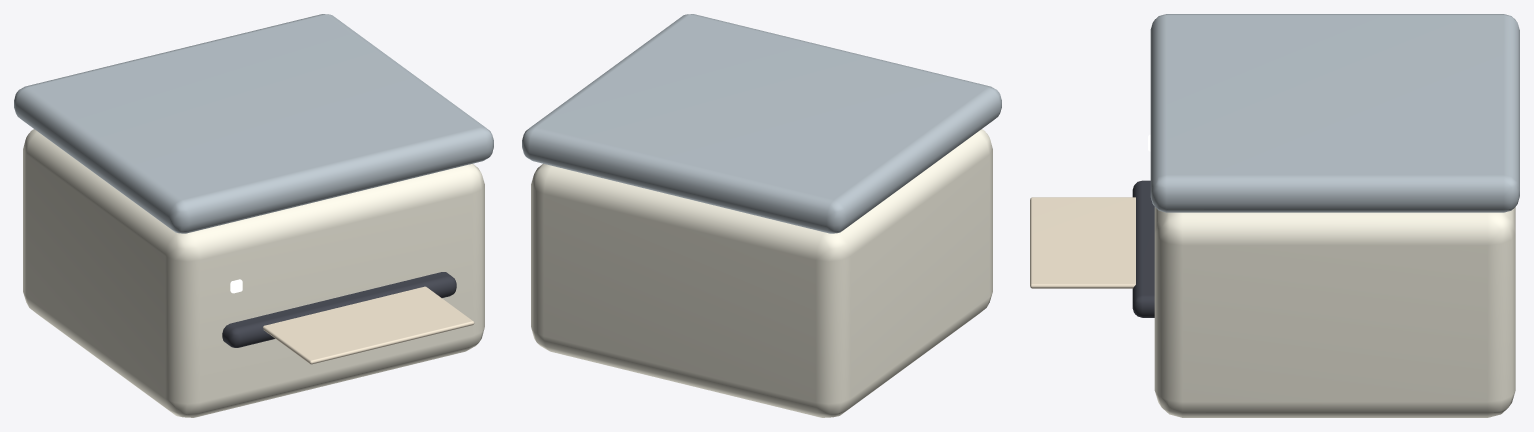
The model's file is officePrinterAni.glb.
The picture shows the model from 3 angles, left to right: view 1: azimuth 30°, elevation 25°; view 2: azimuth 150°, elevation 25°; view 3: azimuth 270°, elevation 25°; orthographic projection. The views are drawn at different scales.
Parts seen in each view (by area): view 1: Office machine, Lid, Printed page, Paper output; view 2: Office machine, Lid; view 3: Office machine, Lid, Printed page, Paper output.
Part boxes in pixels (x1,y1,x2,y2): Office machine: [23, 129, 484, 417]; Lid: [14, 14, 493, 233]; Printed page: [263, 286, 474, 364]; Paper output: [222, 272, 456, 347]; Office machine: [531, 129, 992, 417]; Lid: [522, 14, 1001, 233]; Office machine: [1154, 207, 1515, 417]; Lid: [1150, 14, 1519, 212]; Printed page: [1030, 197, 1135, 288]; Paper output: [1132, 180, 1154, 317].
Size of the model in its own units: 1.02 by 0.68 by 1.22.
